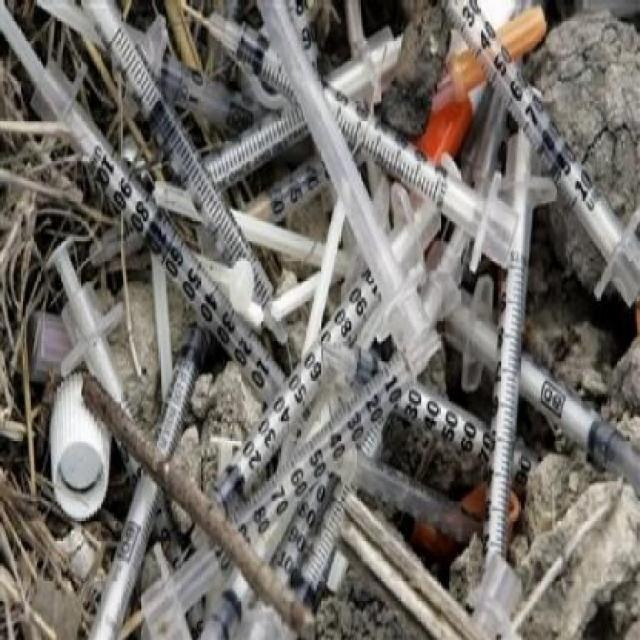garbage: (14, 14, 602, 433), (116, 317, 603, 640)
